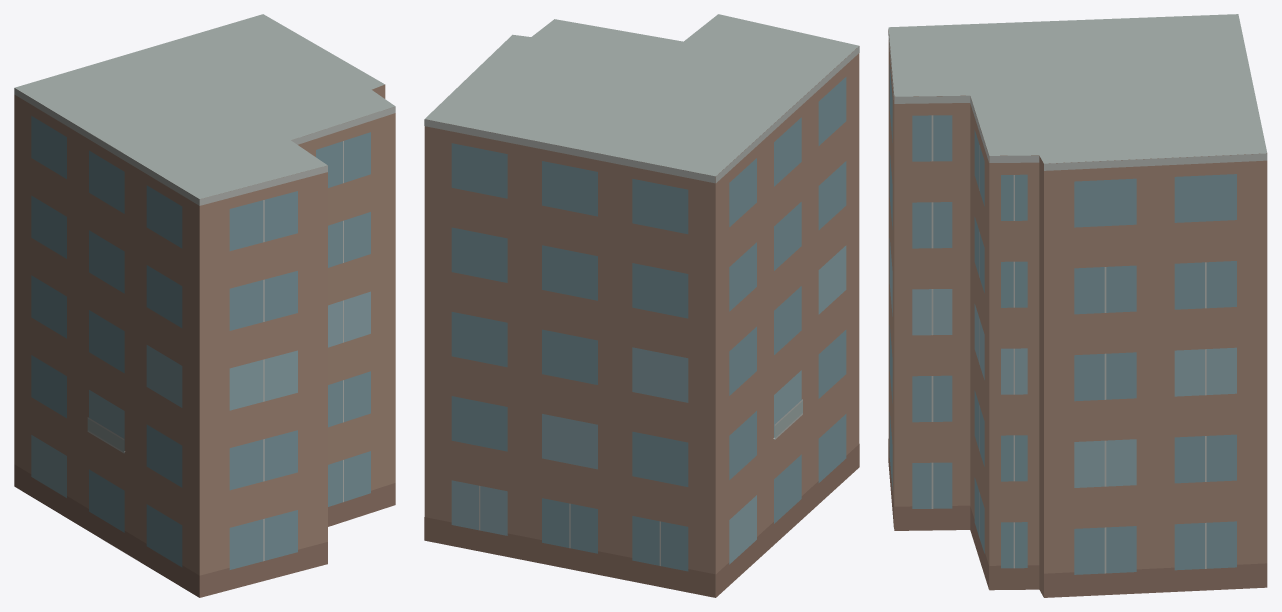
File: survey-upis-32574291.glb
3 renders of one model, left to right at view 1: azimuth 30°, elevation 25°; view 2: azimuth 150°, elevation 25°; view 3: azimuth 270°, elevation 25°, orthographic. The views are drawn at different scales.
Visible parts, largest first — view 1: survey-upis-32574291.tmp; view 2: survey-upis-32574291.tmp; view 3: survey-upis-32574291.tmp.
Boxes of the visible parts, x1,y1,x2,y2 form: survey-upis-32574291.tmp: (14, 14, 395, 597); survey-upis-32574291.tmp: (424, 14, 859, 597); survey-upis-32574291.tmp: (888, 14, 1267, 597).
Bounding box in the file's own units: 10.8 × 14.6 × 11.56.
